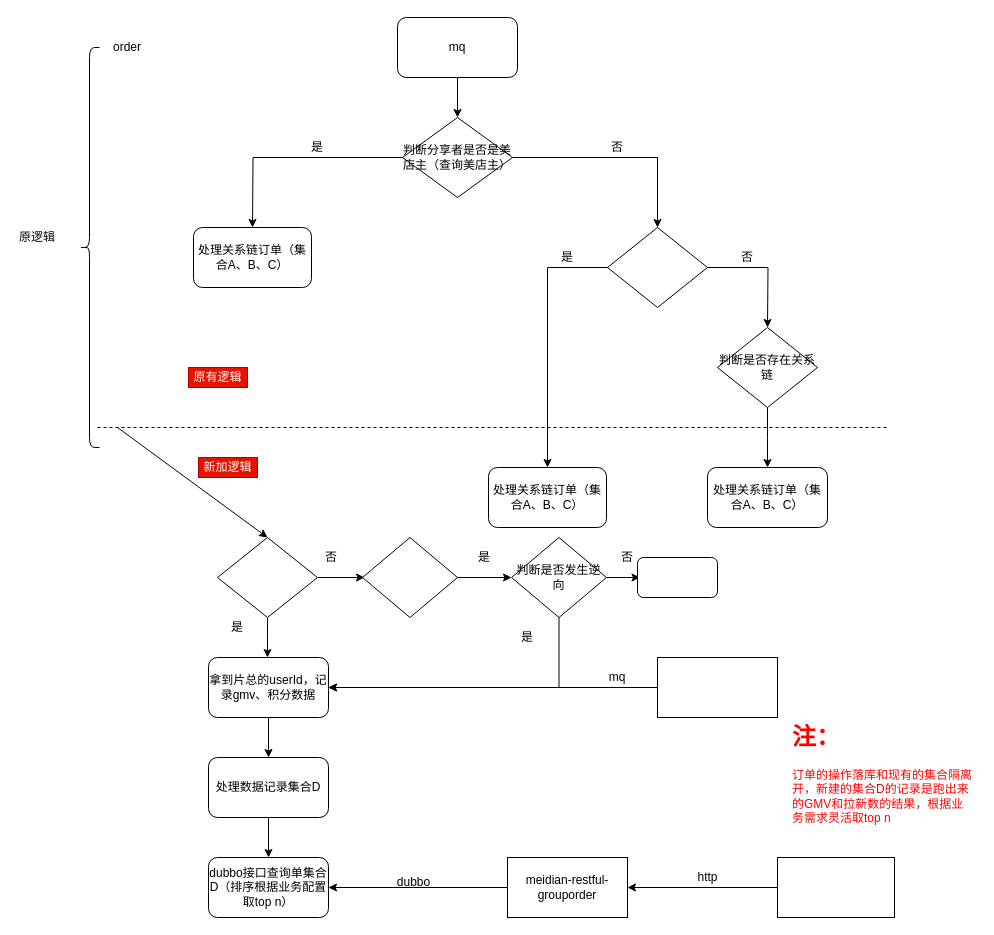
Image size: 994x935. Some labels were removed from this diagram. Here are the shapes that lost their labels. From the top down, the box of each, then its label:
(606, 226, 708, 308): 判断是否存在全转增记录
(216, 536, 318, 618): 判断是否在活动期内
(362, 536, 458, 618): 活动期外截止时间以内
(636, 556, 718, 598): return
(656, 656, 778, 718): meidian-service-user
(776, 856, 894, 918): 前端
